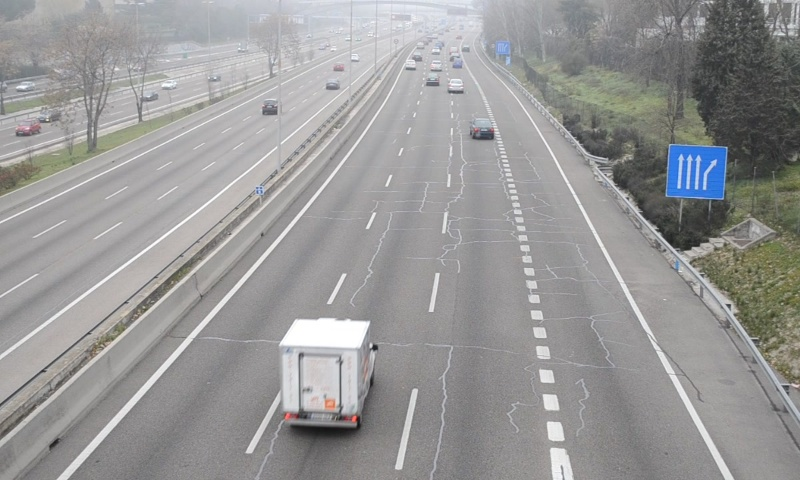car: (468, 116, 494, 140)
small-truck: (279, 318, 377, 430)
